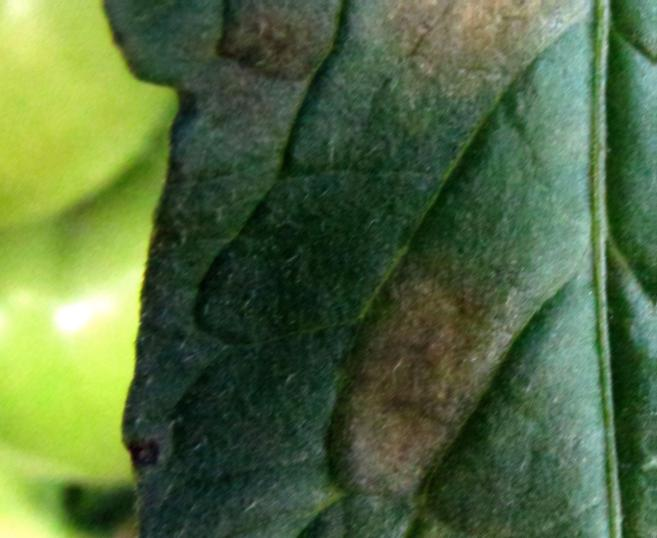Tomato mold leaf: (102, 0, 657, 538)
